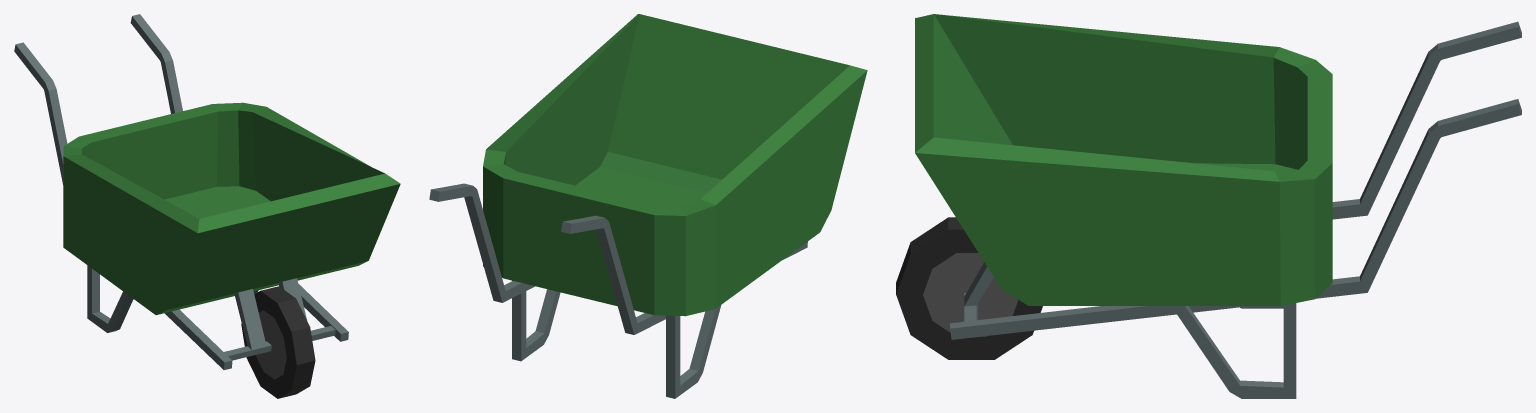
The model's file is Wheelbarrow_1_Green.fbx.
3 renders of one model, left to right at view 1: azimuth 30°, elevation 25°; view 2: azimuth 150°, elevation 25°; view 3: azimuth 270°, elevation 25°, orthographic. The views are drawn at different scales.
Visible parts, largest first — view 1: Wheelbarrow_1_Green; view 2: Wheelbarrow_1_Green; view 3: Wheelbarrow_1_Green.
Part boxes in pixels (<box>): Wheelbarrow_1_Green: <box>14,14,400,398</box>; Wheelbarrow_1_Green: <box>429,14,867,398</box>; Wheelbarrow_1_Green: <box>896,14,1521,398</box>.
Bounding box in the file's own units: 112 × 113 × 220.
